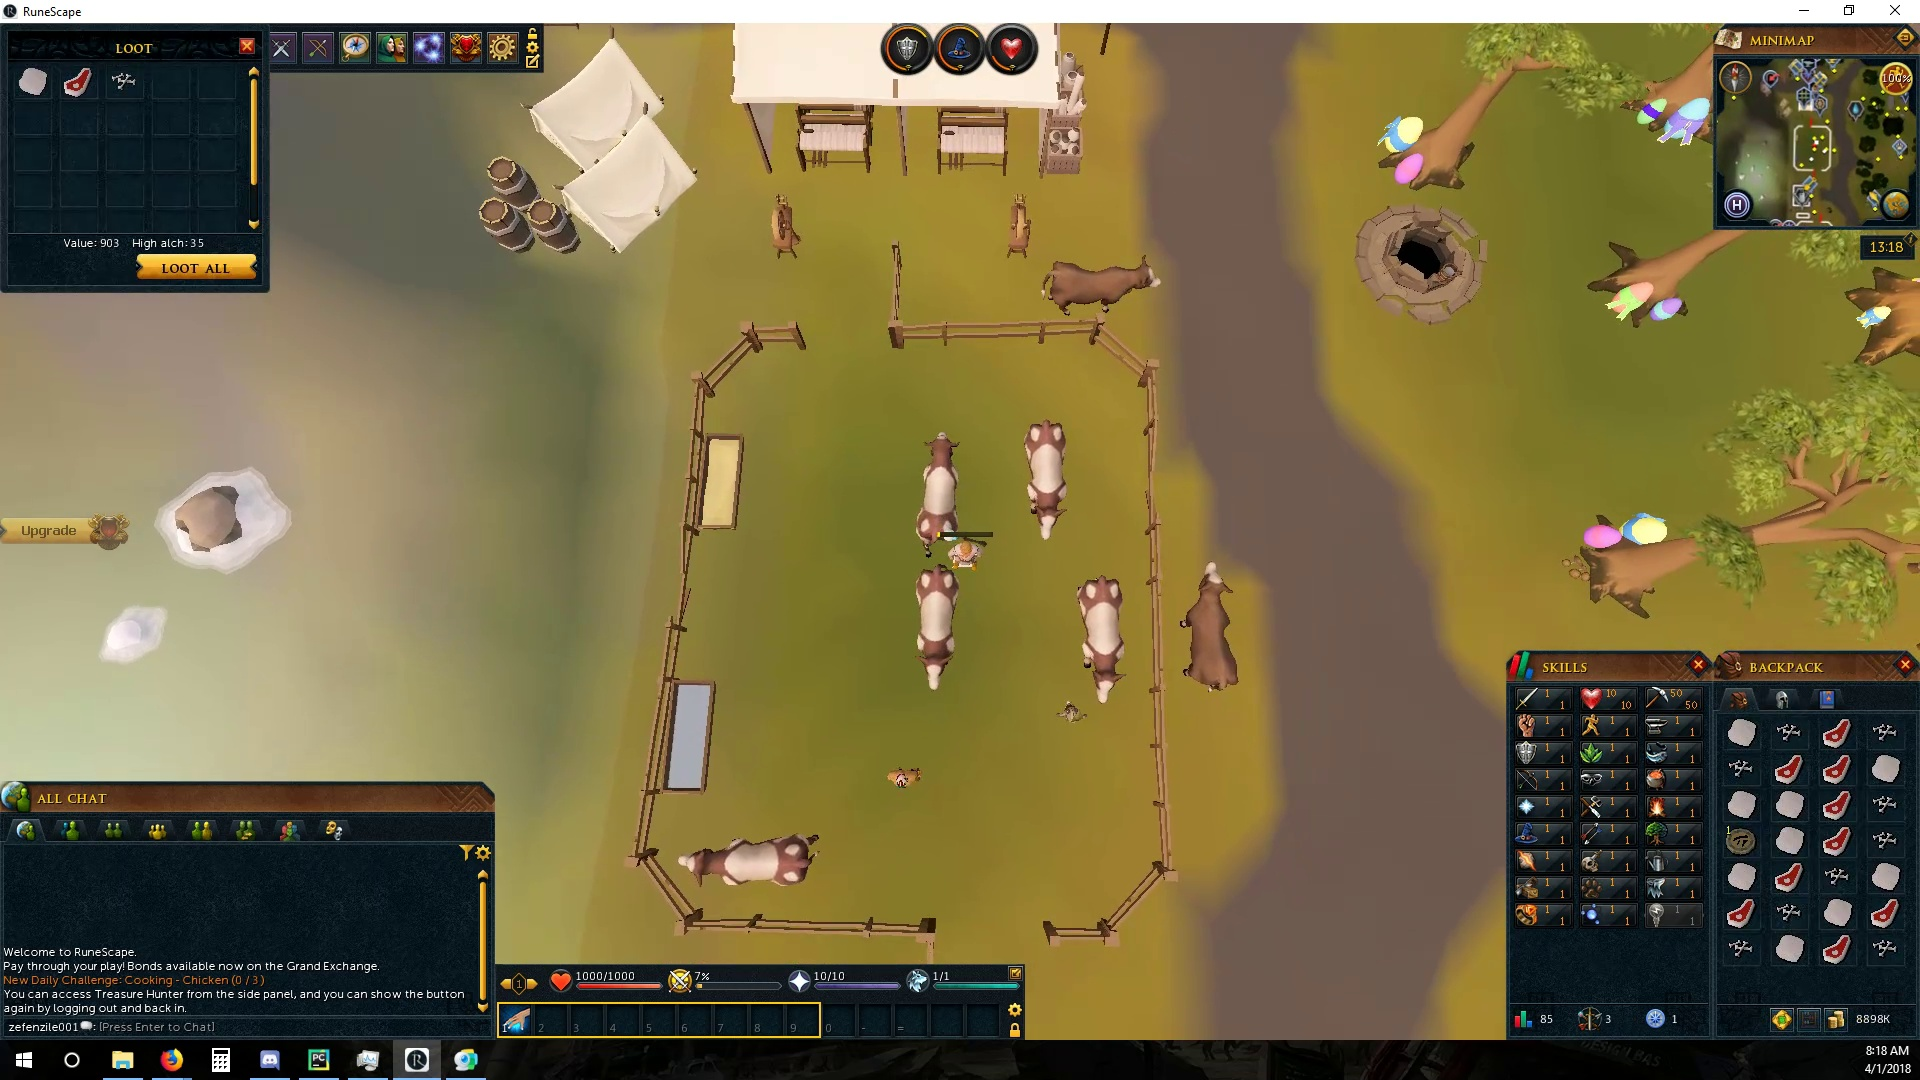cow: (1178, 558, 1244, 695), (676, 831, 822, 889), (1039, 253, 1163, 316), (1075, 575, 1127, 708), (1018, 419, 1071, 541), (913, 564, 957, 694), (916, 431, 961, 558)
